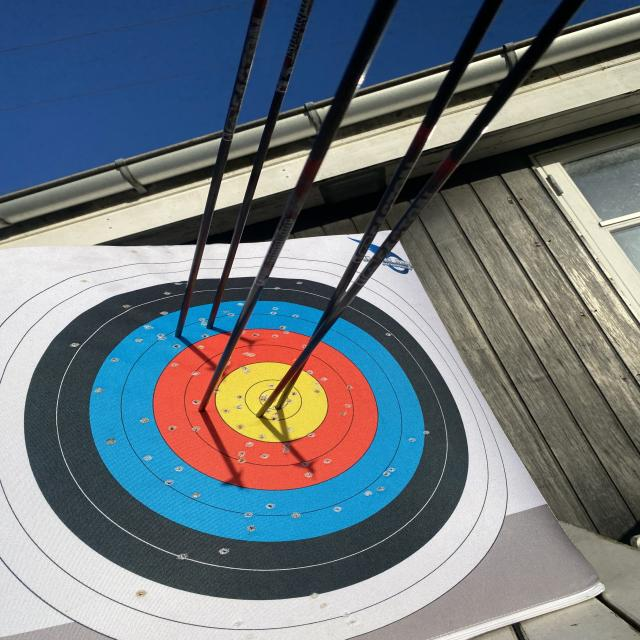Arrow_Blue: (203, 308, 231, 336), (166, 322, 196, 344)
Arrow_Red: (191, 398, 220, 422)
Arrow_Yellow: (274, 394, 301, 420), (252, 403, 274, 427)
